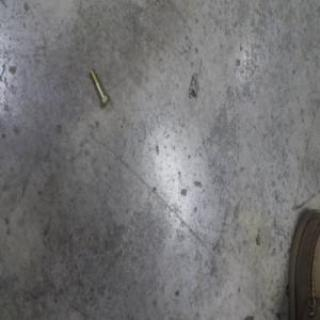Bolttrack_idkeyframe: (88, 66, 110, 109)
